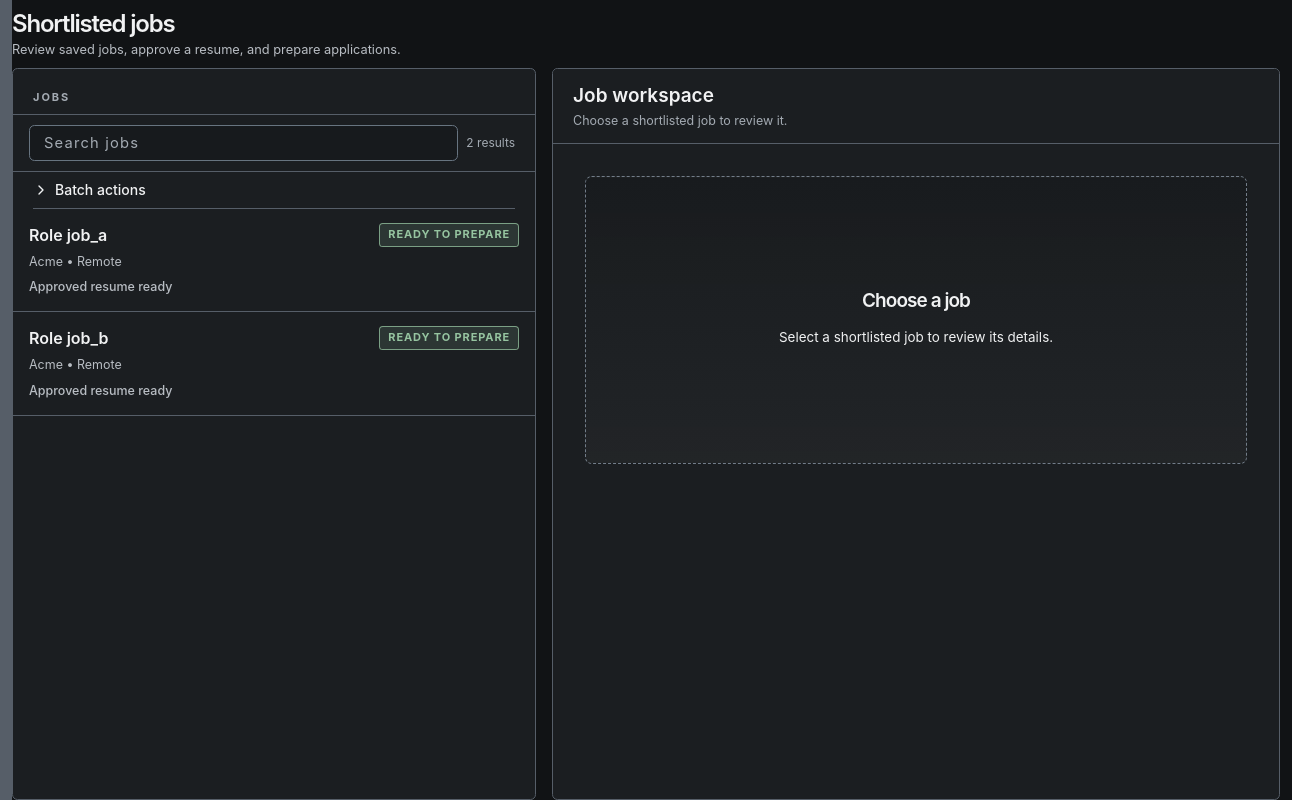
it: ReviewQueueScreen batch selection persistence › clears the persisted curation when the user explicitly clears it
The width and height of the screenshot is (1292, 800).
Click the heading "Batch actions": {"x": 89, "y": 189} [33,180,146,198]
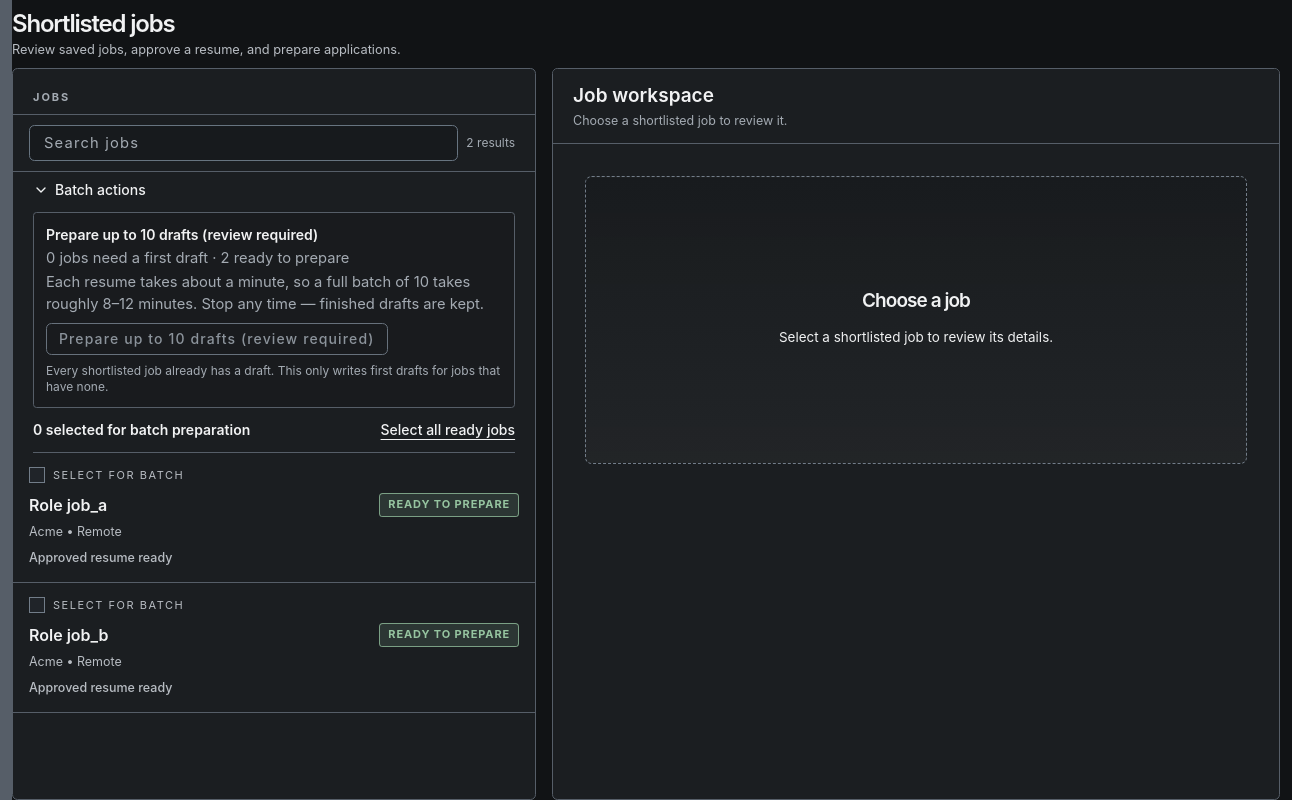
Click the 1st checkbox named "Select for batch": {"x": 37, "y": 475} [29,467,45,483]
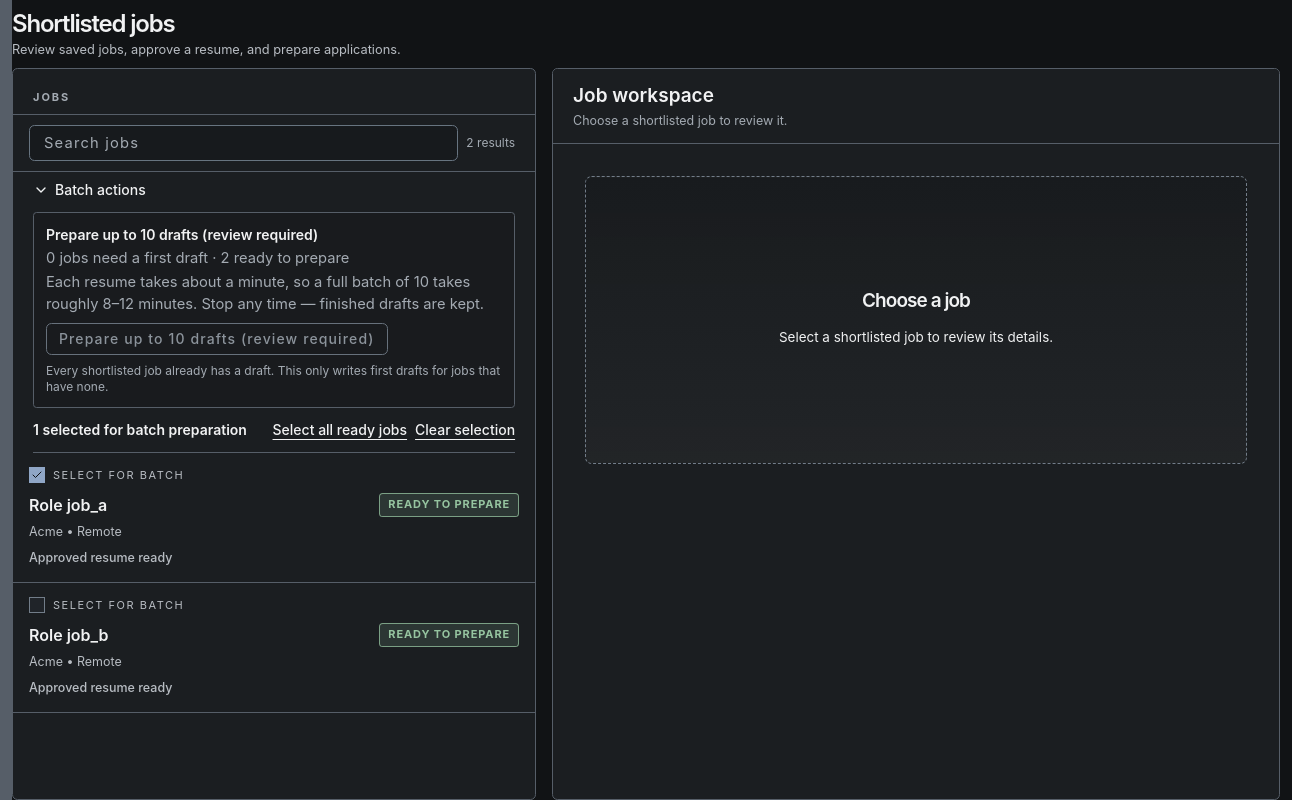
Click the 2nd checkbox named "Select for batch": {"x": 37, "y": 605} [29,597,45,613]
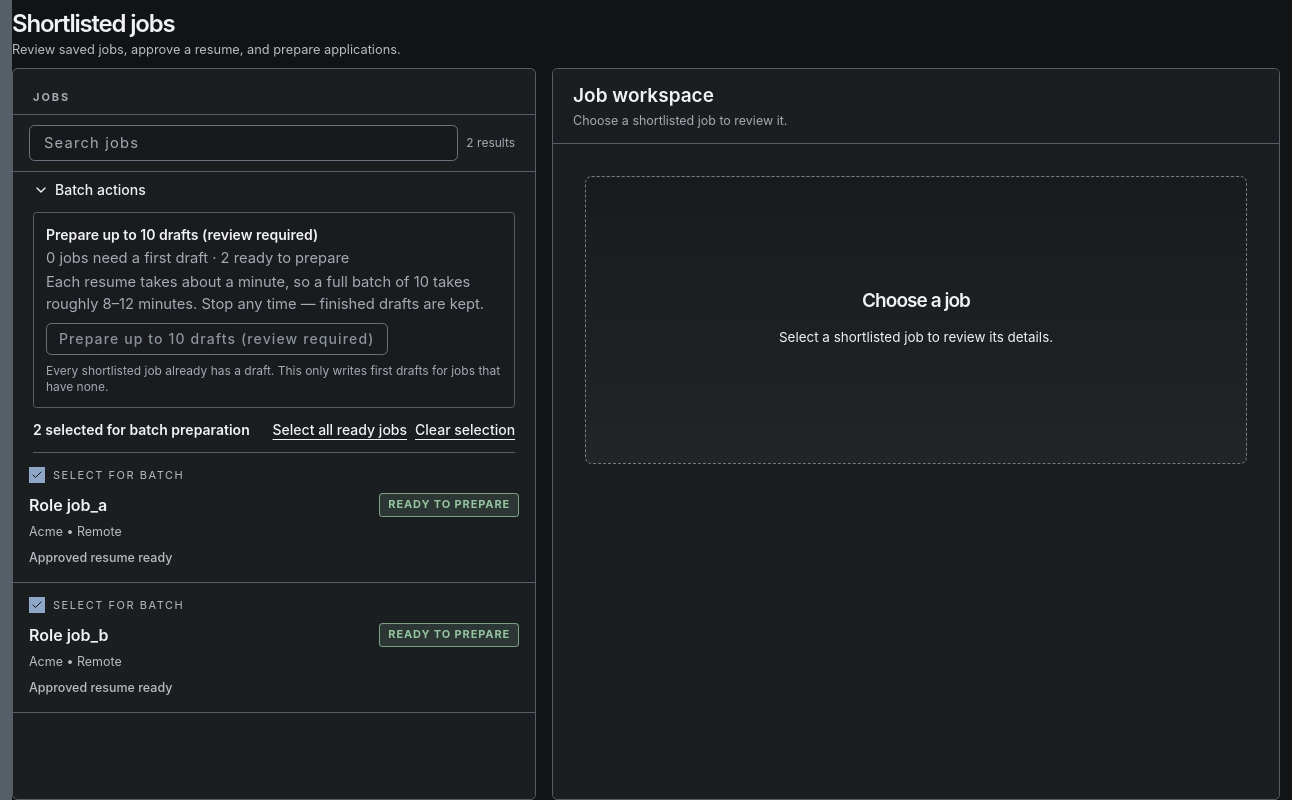
Now the text "2 selected for batch preparation" is shown, box [33,420,250,440]
Click the button "Clear selection": {"x": 465, "y": 430} [415,420,515,440]
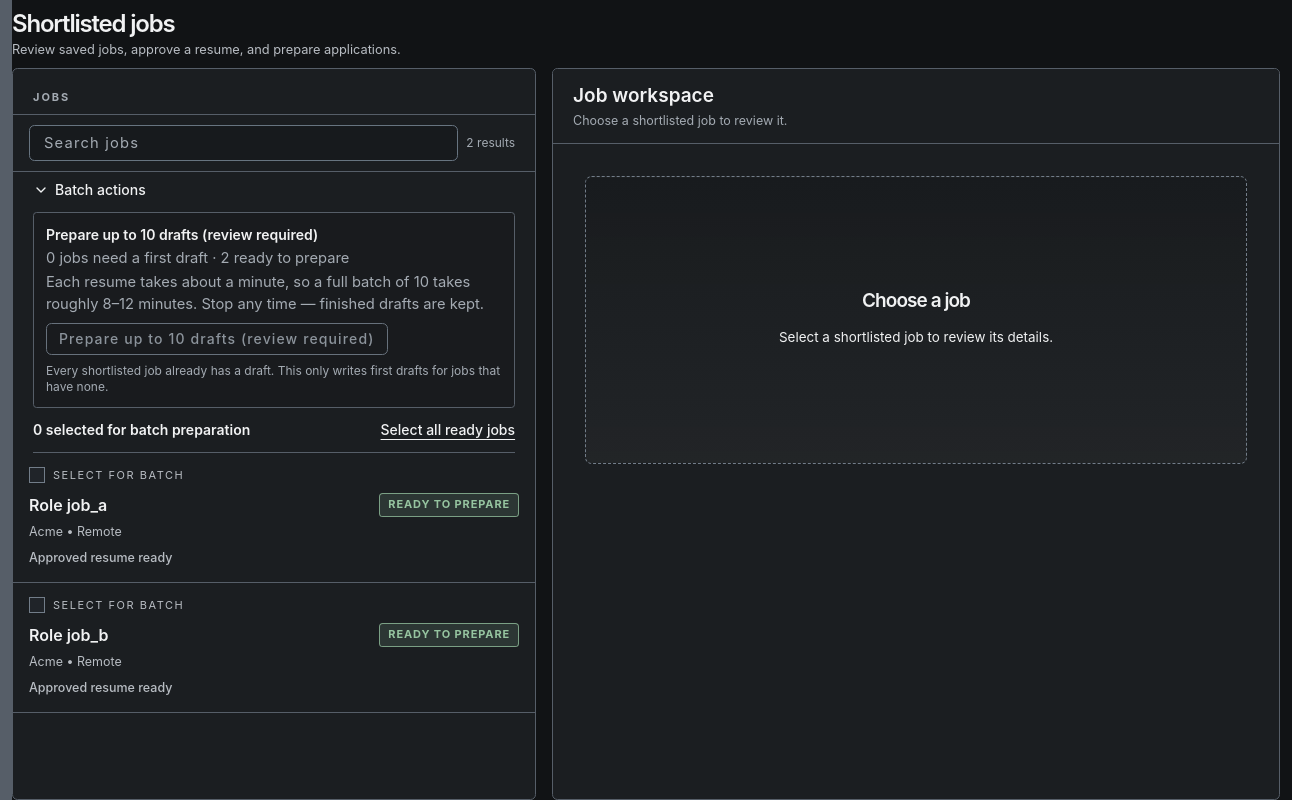
Now the text "0 selected for batch preparation" is shown, box [33,420,250,440]
